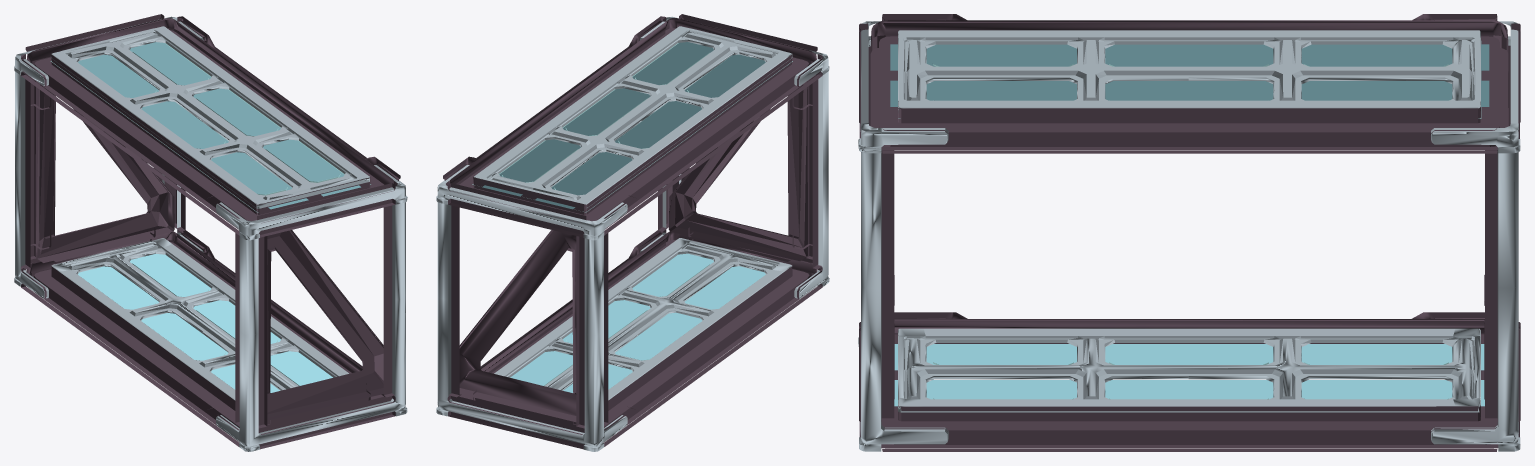
File: uee_lawless_prop_shelf_storage_medium_lod1.glb
The picture shows the model from 3 angles, left to right: view 1: azimuth 30°, elevation 25°; view 2: azimuth 150°, elevation 25°; view 3: azimuth 270°, elevation 25°; orthographic projection. The views are drawn at different scales.
Size of the model in its own units: 2.01 by 2.75 by 5.03.
